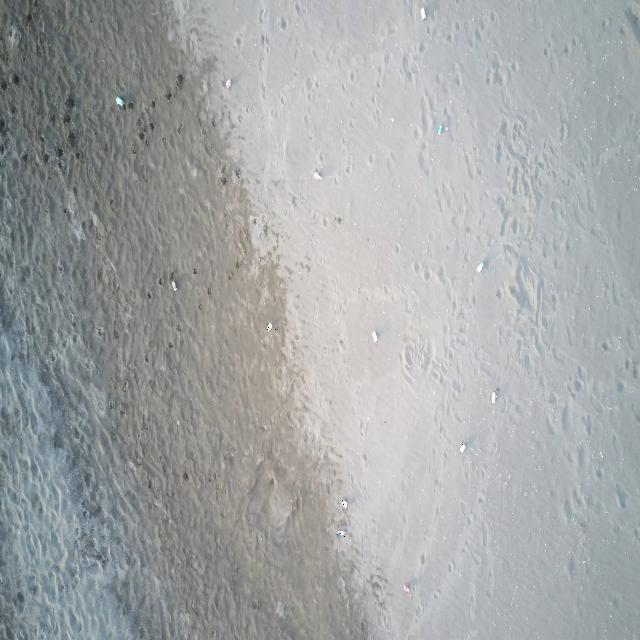tin-and-aluminum-cans: (115, 95, 125, 108), (267, 319, 276, 333), (370, 327, 378, 342), (459, 440, 467, 454), (491, 389, 498, 404), (342, 496, 349, 510), (337, 529, 347, 537), (224, 78, 231, 88)
